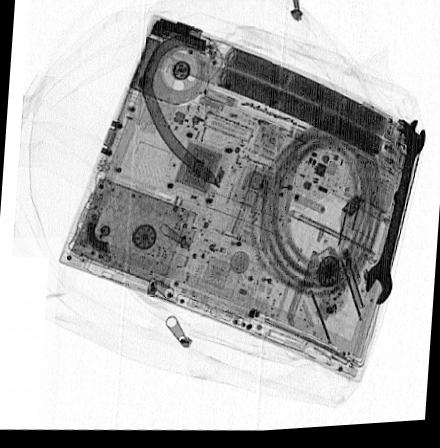Wrench: (363, 124, 427, 313)
